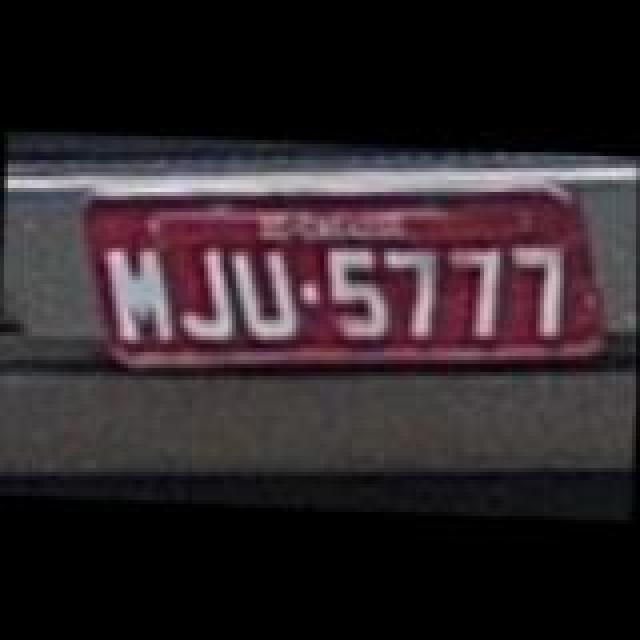5: (322, 242, 398, 342)
7: (380, 236, 452, 336), (504, 240, 576, 336), (446, 236, 514, 332)
J: (160, 244, 236, 344)
M: (98, 238, 178, 342)
U: (222, 242, 314, 342)
